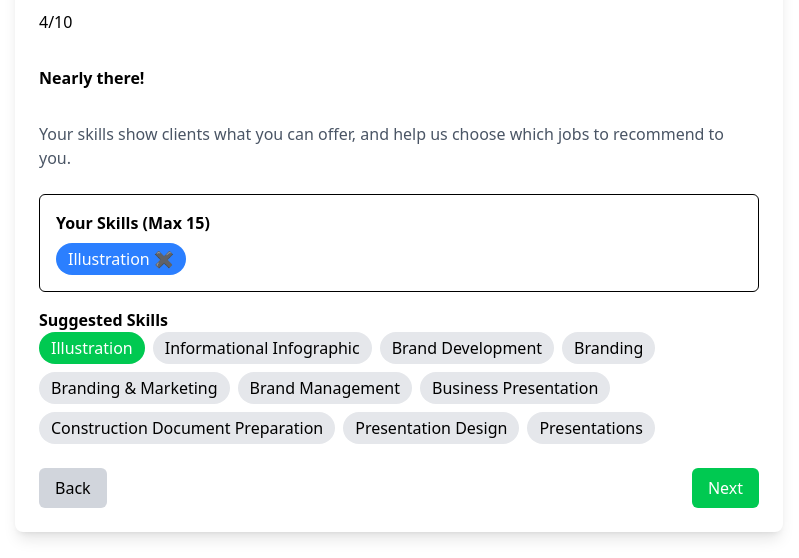
Test: Step8 Component › toggles skill selection
The width and height of the screenshot is (799, 558).
Step 1. Click the button "Brand Development" → (467, 348), box [380, 332, 554, 364]
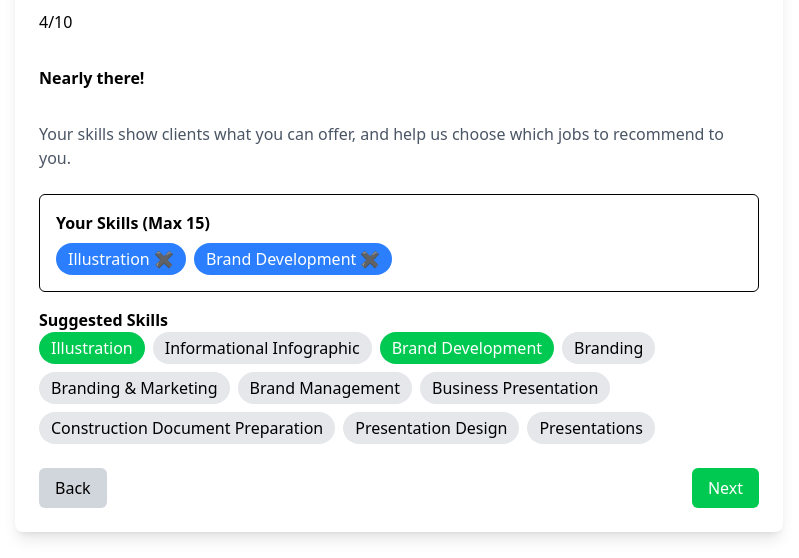
Check: the text "Brand Development ✖" is shown, box [194, 243, 392, 275]
Step 2. Click the button "Brand Development" → (467, 348), box [380, 332, 554, 364]
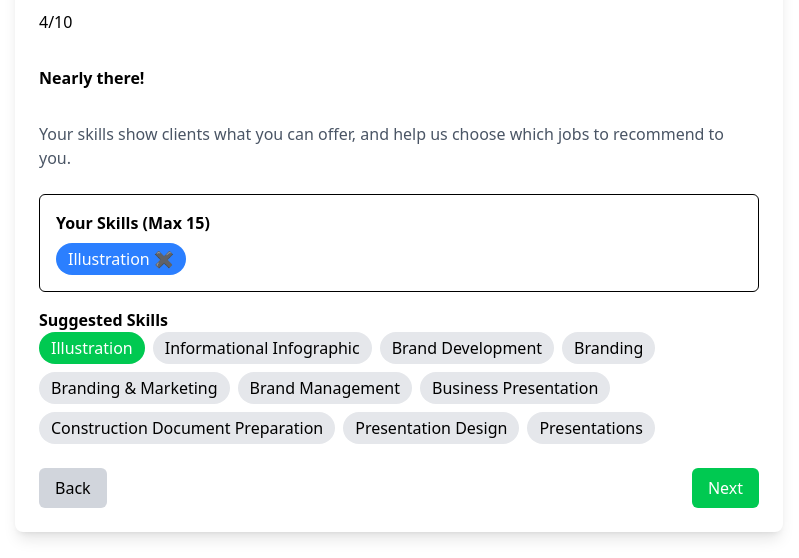
Check: the text "Brand Development ✖" is gone
